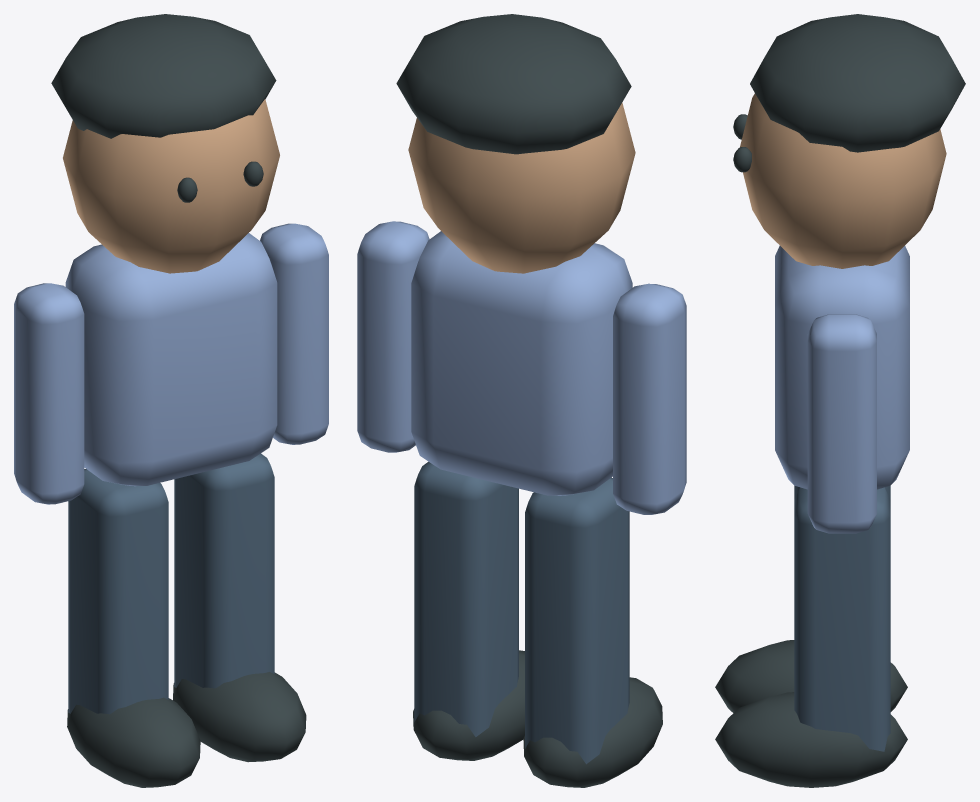
Rendered from city-citizen.glb.
The picture shows the model from 3 angles, left to right: view 1: azimuth 30°, elevation 25°; view 2: azimuth 150°, elevation 25°; view 3: azimuth 270°, elevation 25°; orthographic projection. The views are drawn at different scales.
Parts seen in each view (by area): view 1: Torso, Head, Leg_L, Leg_R, Hair, Arm_L, Arm_R, Shoe_L, Shoe_R; view 2: Torso, Leg_L, Leg_R, Hair, Head, Arm_L, Arm_R, Shoe_L, Shoe_R; view 3: Hair, Head, Leg_R, Torso, Arm_R, Shoe_R, Shoe_L.
Part boxes in pixels (x1,y1,x2,y2): Torso: (65,233,277,486); Head: (63,99,279,273); Leg_L: (68,469,168,714); Leg_R: (174,453,274,688); Hair: (51,14,276,138); Arm_L: (14,283,84,504); Arm_R: (260,223,328,444); Shoe_L: (67,697,200,787); Shoe_R: (173,672,306,762); Torso: (411,231,632,495); Leg_L: (525,477,629,776); Leg_R: (414,461,518,748); Hair: (396,14,631,154); Head: (408,102,635,273); Arm_L: (613,283,686,514); Arm_R: (357,221,429,452); Shoe_L: (523,677,662,787); Shoe_R: (413,650,524,760); Hair: (750,14,965,152); Head: (740,93,946,268); Leg_R: (794,487,890,763); Torso: (775,245,909,489); Arm_R: (807,314,876,533); Shoe_R: (715,692,907,787); Shoe_L: (715,640,907,712).
Size of the model in its own units: 0.9 by 2.07 by 0.65.
